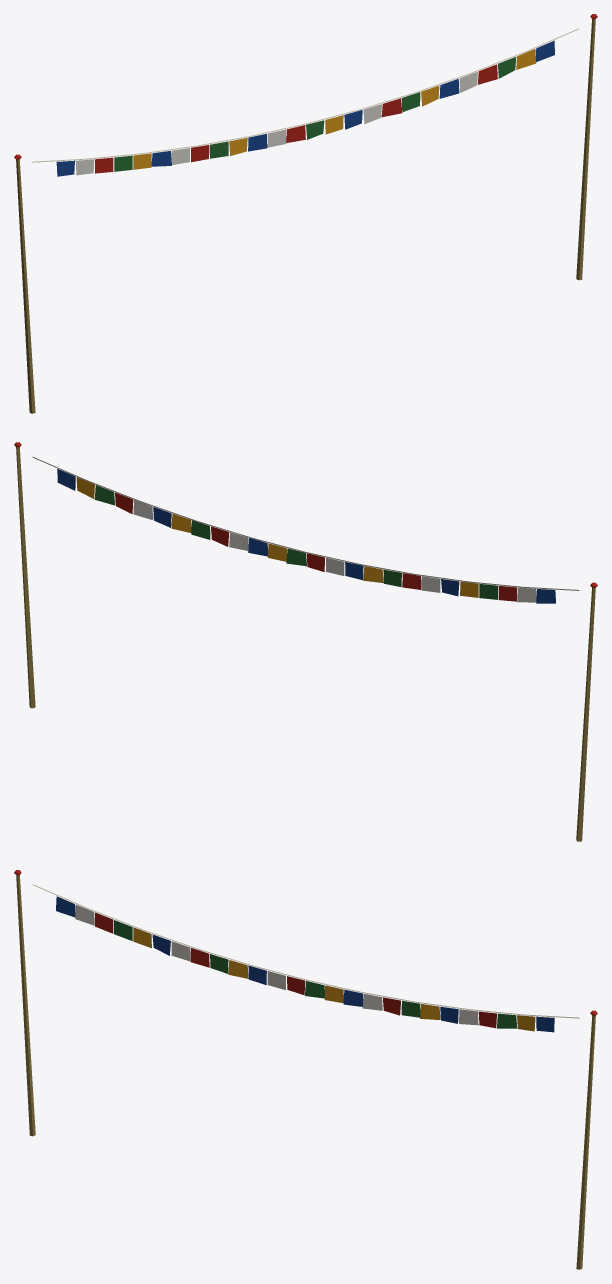
File: prayer_flags.glb
3 renders of one model, top to bottom at view 1: azimuth 30°, elevation 25°; view 2: azimuth 150°, elevation 25°; view 3: azimuth 330°, elevation 25°, orthographic.
Parts seen in each view (by area): view 1: prayer_flags; view 2: prayer_flags; view 3: prayer_flags.
Part boxes in pixels (box(x1,y1,x2,y2)): prayer_flags: box(14, 14, 597, 413); prayer_flags: box(14, 442, 597, 841); prayer_flags: box(14, 870, 597, 1269).
Bounding box in the file's own units: 8.52 × 3.65 × 0.0851.
